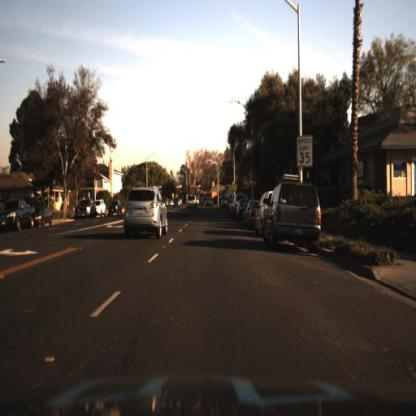car: (267, 181, 323, 249), (124, 183, 167, 247), (1, 198, 33, 238), (76, 200, 98, 224), (32, 205, 51, 231), (78, 197, 97, 221), (186, 193, 201, 214), (204, 194, 217, 213)
